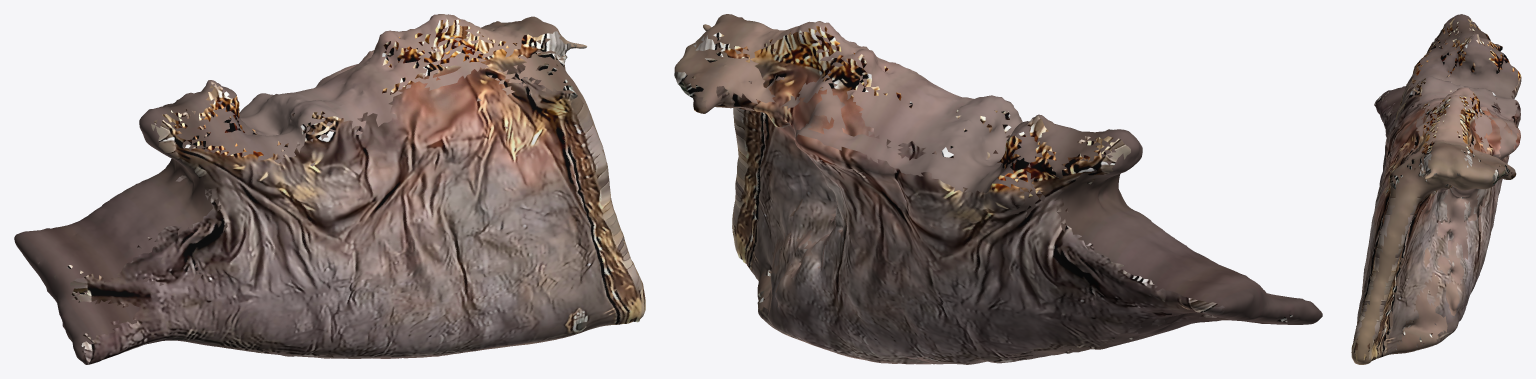
The model's file is kfl-2192.glb.
The picture shows the model from 3 angles, left to right: view 1: azimuth 30°, elevation 25°; view 2: azimuth 150°, elevation 25°; view 3: azimuth 270°, elevation 25°; orthographic projection. The views are drawn at different scales.
Visible parts, largest first — view 1: kfl-2192; view 2: kfl-2192; view 3: kfl-2192.
Part boxes in pixels (x1,y1,x2,y2): kfl-2192: (14,14,645,364); kfl-2192: (674,14,1322,364); kfl-2192: (1351,14,1521,364).
Size of the model in its own units: 0.9895 by 0.5289 by 0.3504.
4 materials, 4 textured.
